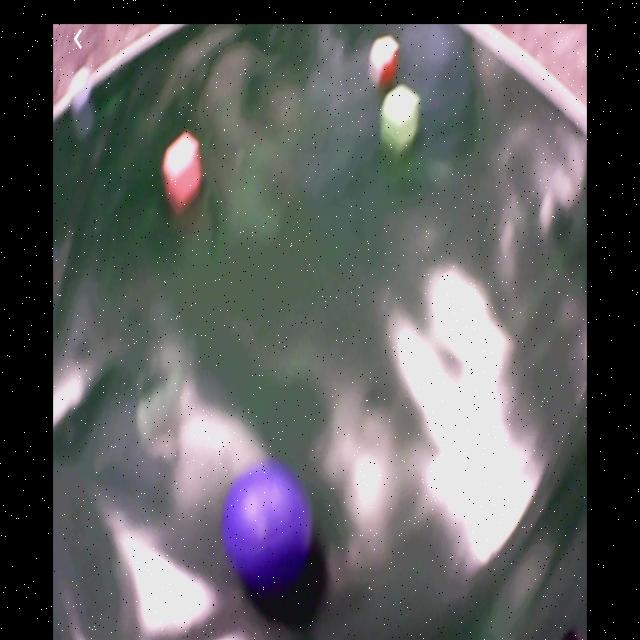ball: (226, 463, 316, 594)
